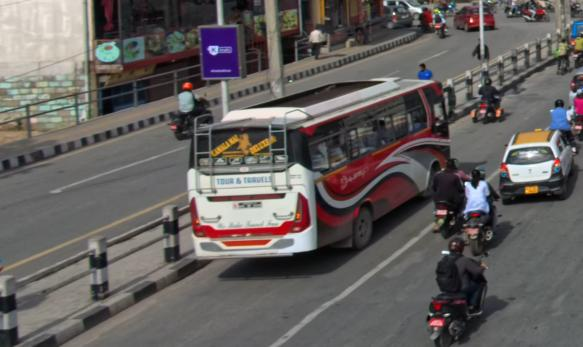bus: (185, 72, 454, 274)
